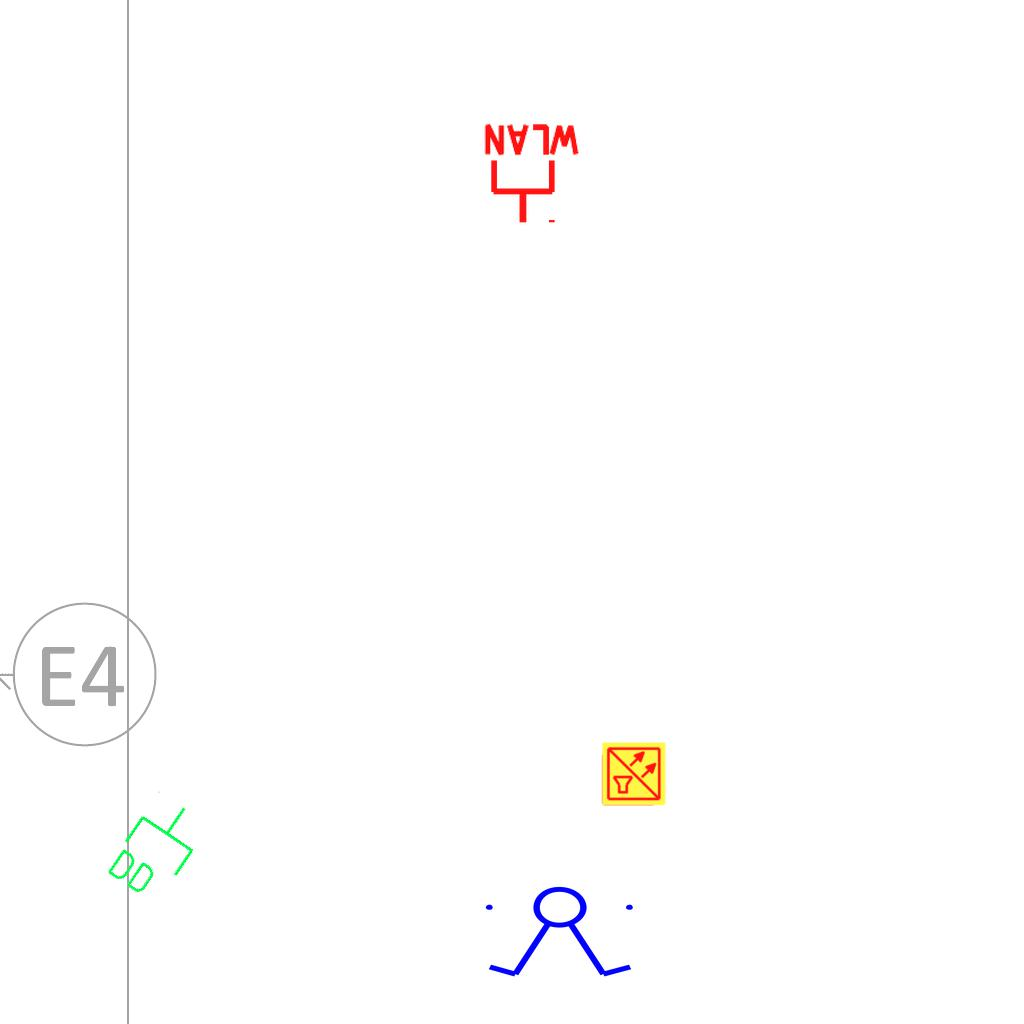Datenanschluss_zweifach: (99, 786, 214, 911)
OKW_Multisensormelder_(Kombination_optischer_Rauch-Kahlenmonoxid_Waerme-Melder): (601, 741, 667, 807)
Serienschalter: (477, 885, 645, 981)
WLAN: (480, 122, 584, 227)
